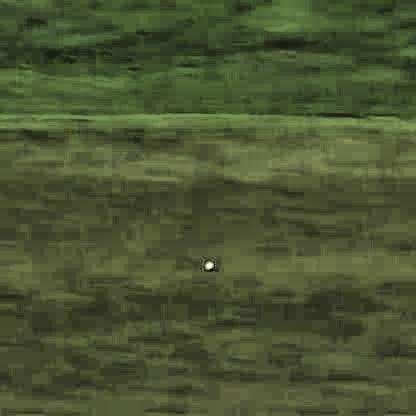golfball: (201, 259, 212, 269)
